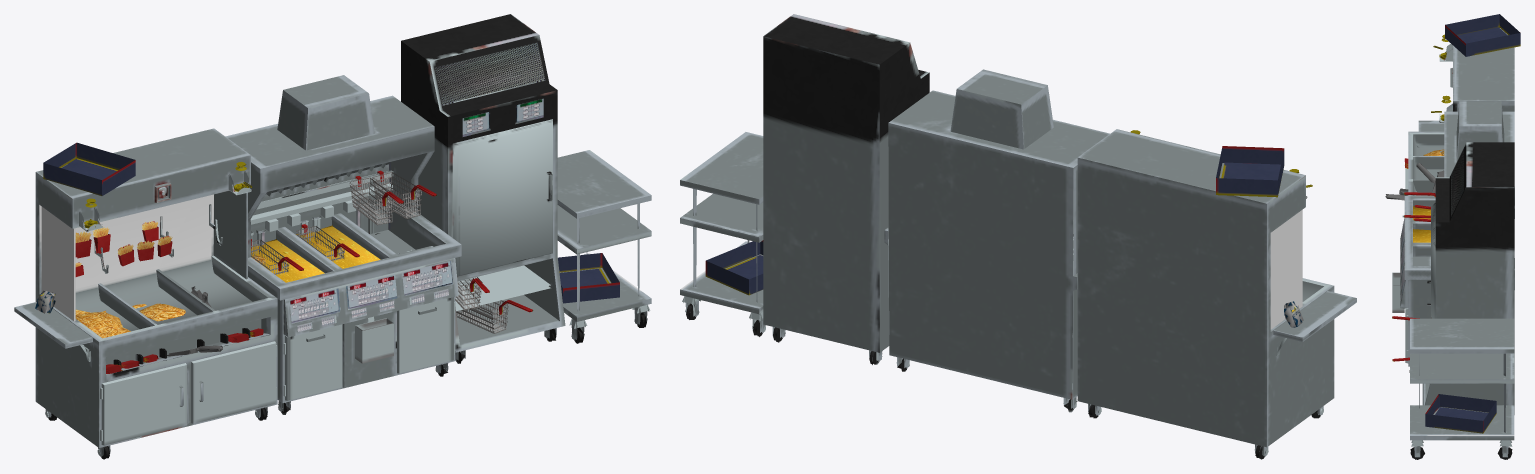
Rendered from kt_deep_fryer.fbx.
3 renders of one model, left to right at view 1: azimuth 30°, elevation 25°; view 2: azimuth 150°, elevation 25°; view 3: azimuth 270°, elevation 25°, orthographic. The views are drawn at different scales.
Parts seen in each view (by area): view 1: kt_deep_fryer_LOD0; view 2: kt_deep_fryer_LOD0; view 3: kt_deep_fryer_LOD0.
Boxes of the visible parts, bbox=[...] form: kt_deep_fryer_LOD0: bbox=[14, 14, 651, 459]; kt_deep_fryer_LOD0: bbox=[680, 14, 1356, 459]; kt_deep_fryer_LOD0: bbox=[1385, 14, 1520, 459].
Size of what is drawn, in the model's own units: 2.42 by 1.15 by 0.5809.
2 materials, 2 textured.
